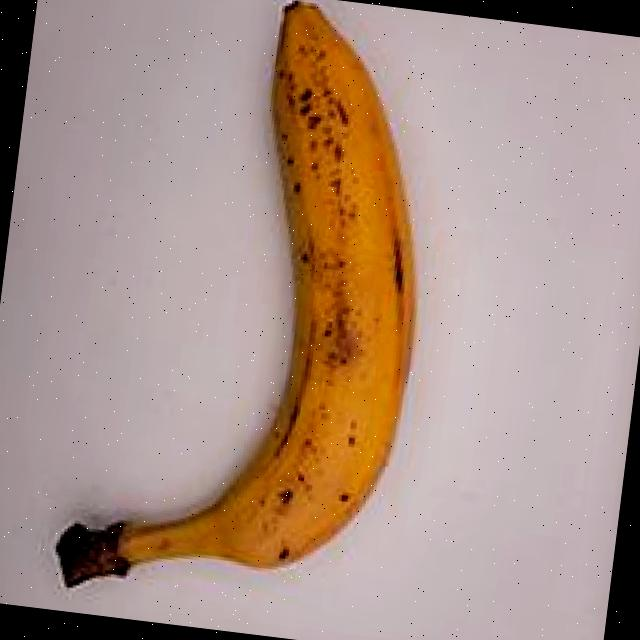Overripe: (11, 0, 462, 629)
